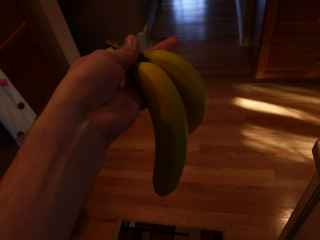banana: (91, 41, 188, 202), (104, 38, 209, 142)
